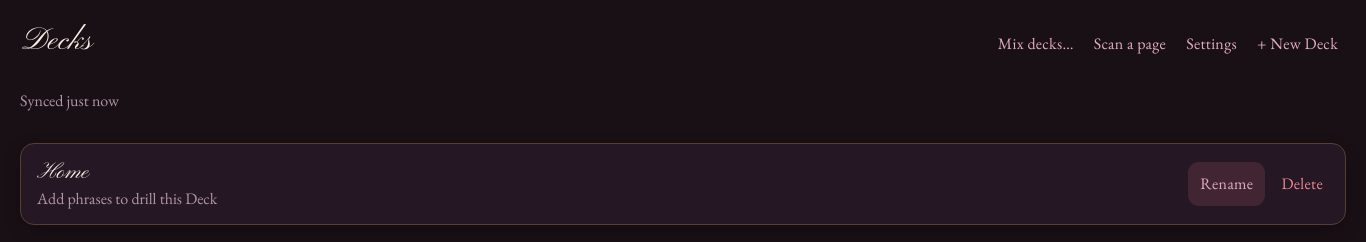
Test: App when a local write fails (T069) › says a Deck could not be deleted, and puts it back on the screen
Click the button with test id "delete-deck-d1" at coordinates (1302, 184), box x1=1269 y1=162 x2=1335 y2=206
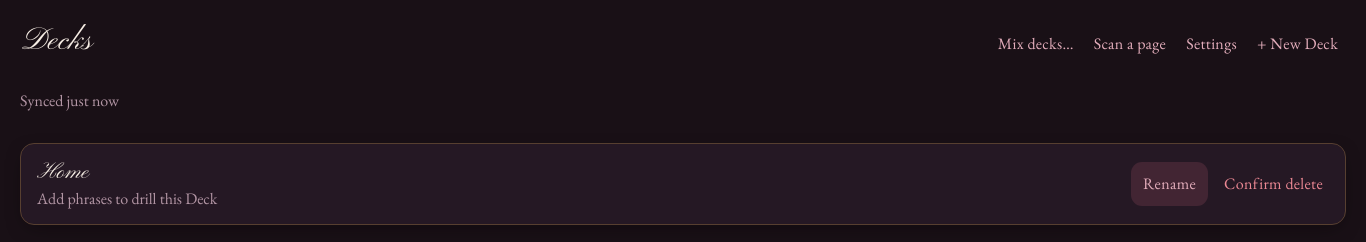
Click the button with test id "delete-deck-d1" at coordinates (1274, 184), box x1=1212 y1=162 x2=1335 y2=206
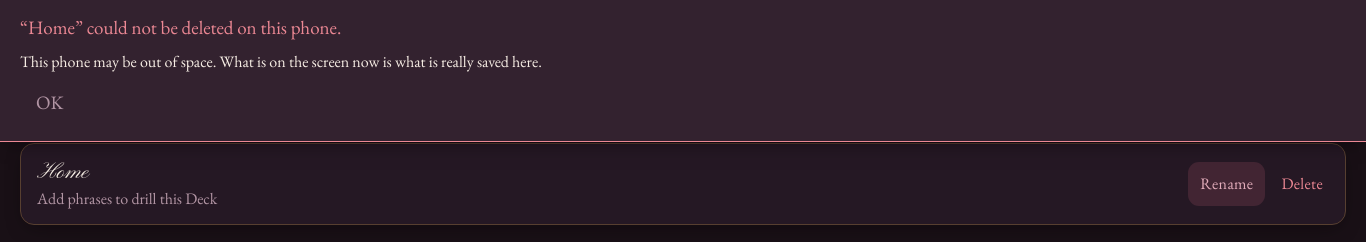
expect the button with test id "deck-row-d1" is shown: met, box x1=21 y1=144 x2=1178 y2=224
expect the message with test id "write-failure" shows "could not be deleted": met, box x1=20 y1=15 x2=341 y2=40
